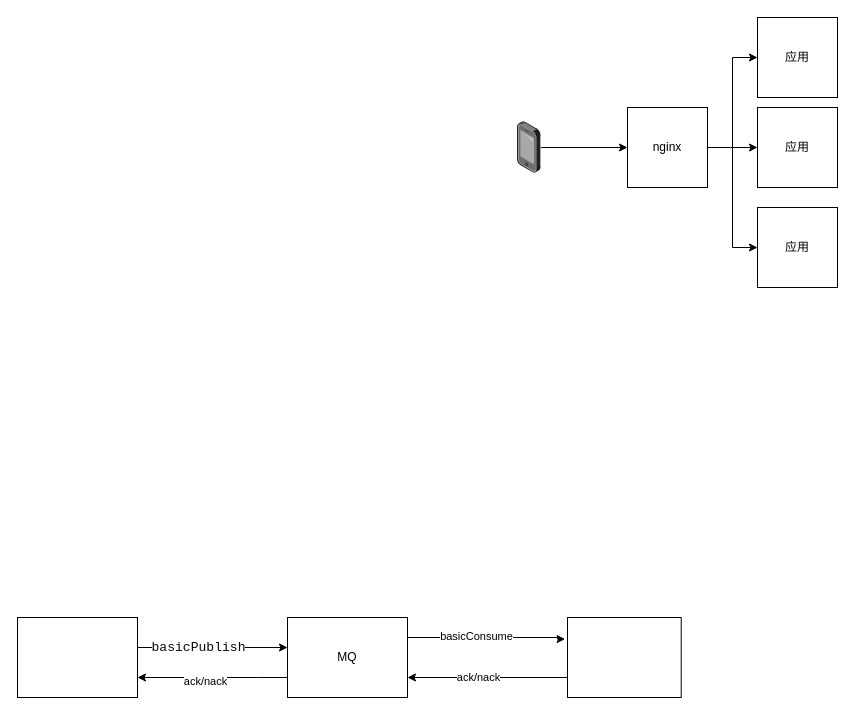
The diagram is 855 pixels wide and 715 high, and some of its shapes have lost their labels. Here are the shapes that lost their labels. From the top down, the box of each, then its label:
(16, 616, 138, 698): 生产者
(566, 616, 681, 698): 消费者
